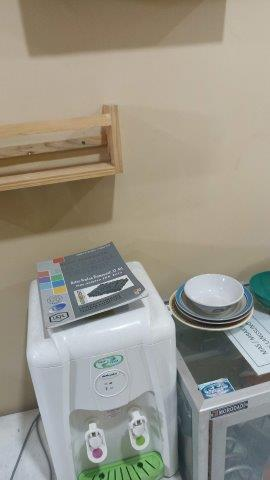kertas: (35, 242, 148, 333)
